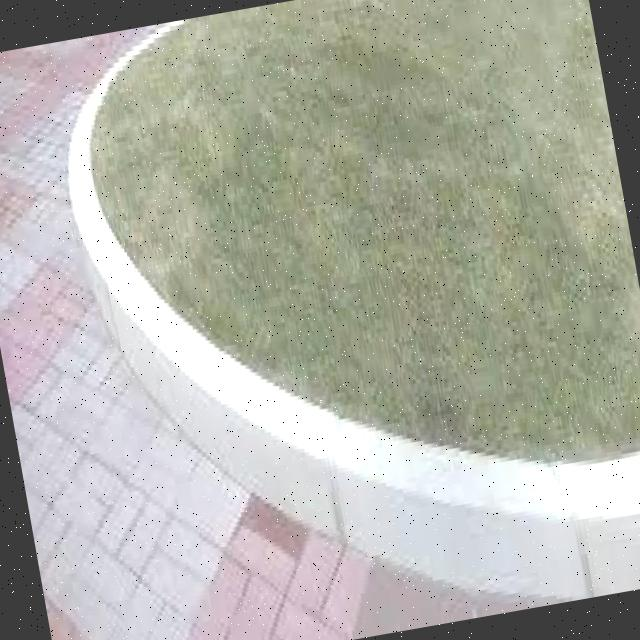curb: (184, 335, 417, 568), (390, 432, 640, 629), (44, 92, 161, 346), (112, 315, 280, 453)
